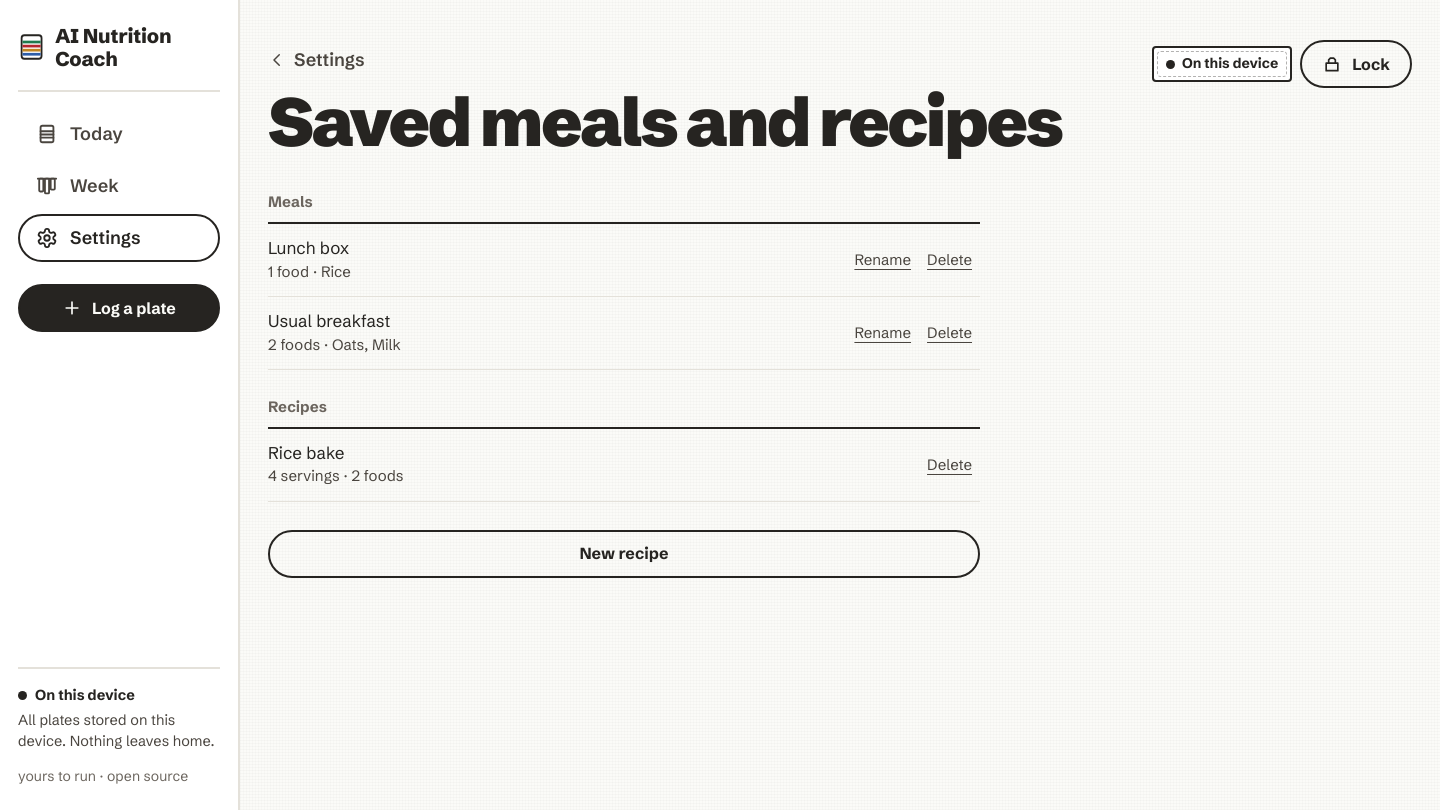
Scenario: SavedScreen › cancelling a rename changes nothing
Expected: the text "Usual breakfast" is shown, [268,310,390,331]
Click the button with aria-label "Rename Lunch box" at (883, 260), box [846,236,919,284]
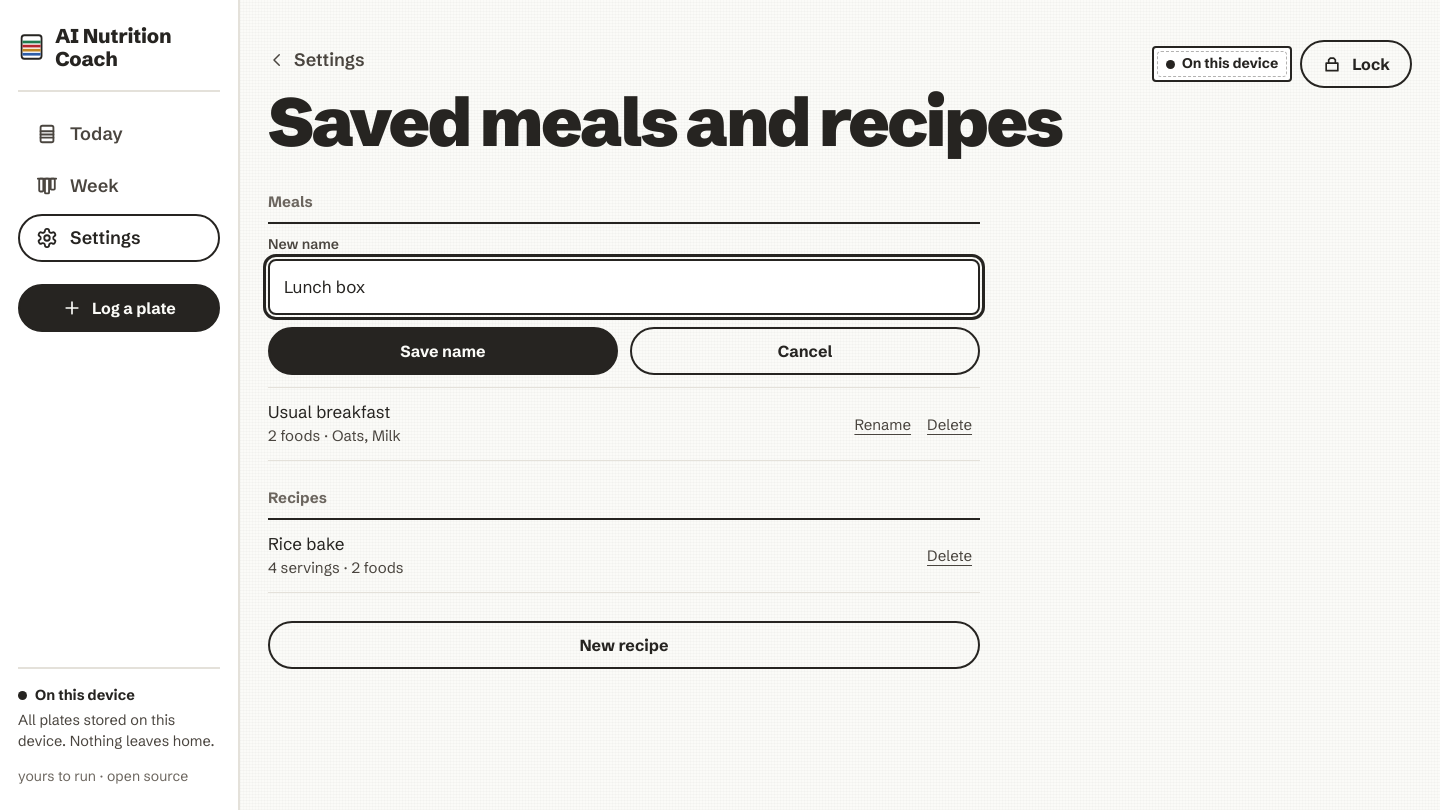
Type " x" into the field labelled "New name" at (624, 287), box [270,261,978,313]
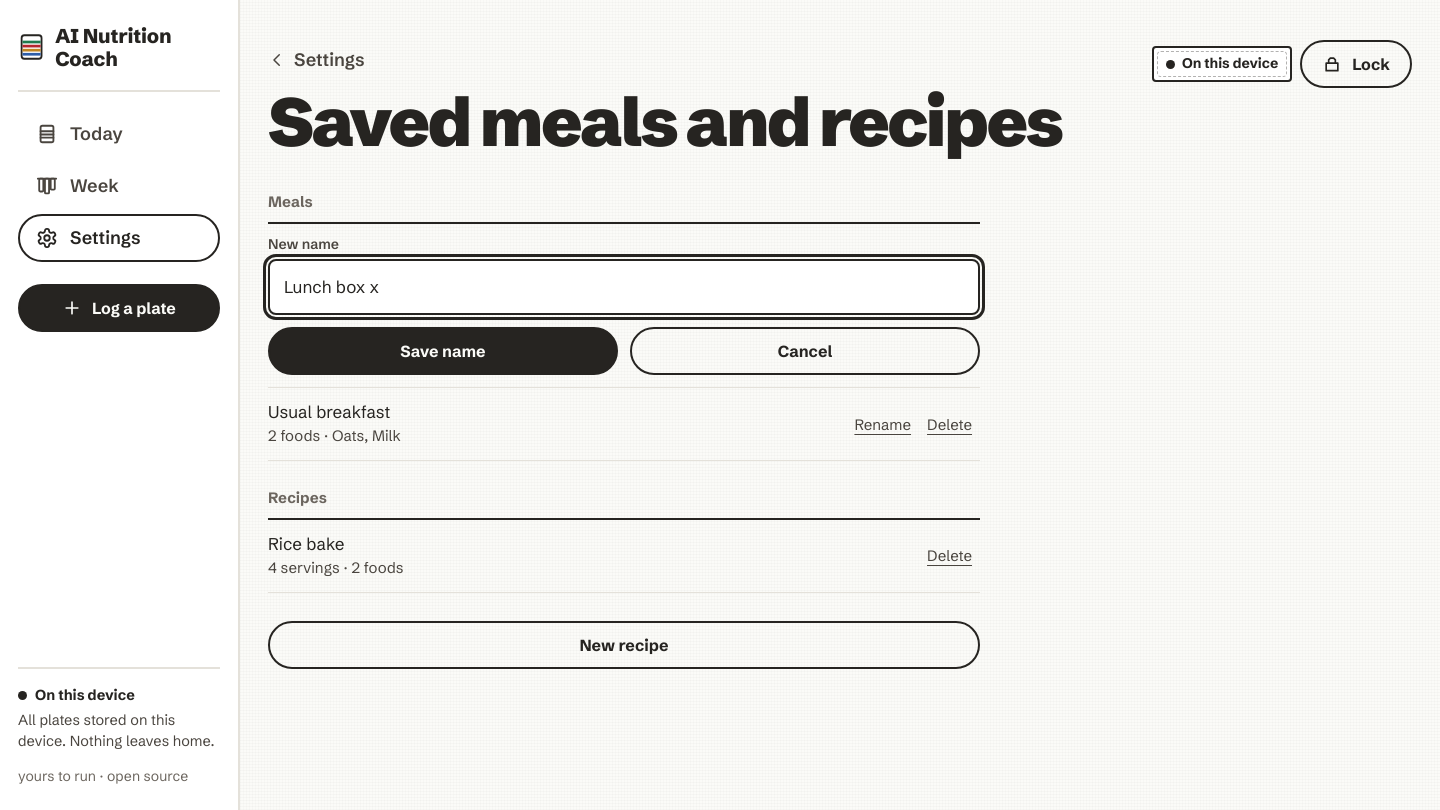
Click the button "Cancel" at (805, 351), box [630,327,980,375]
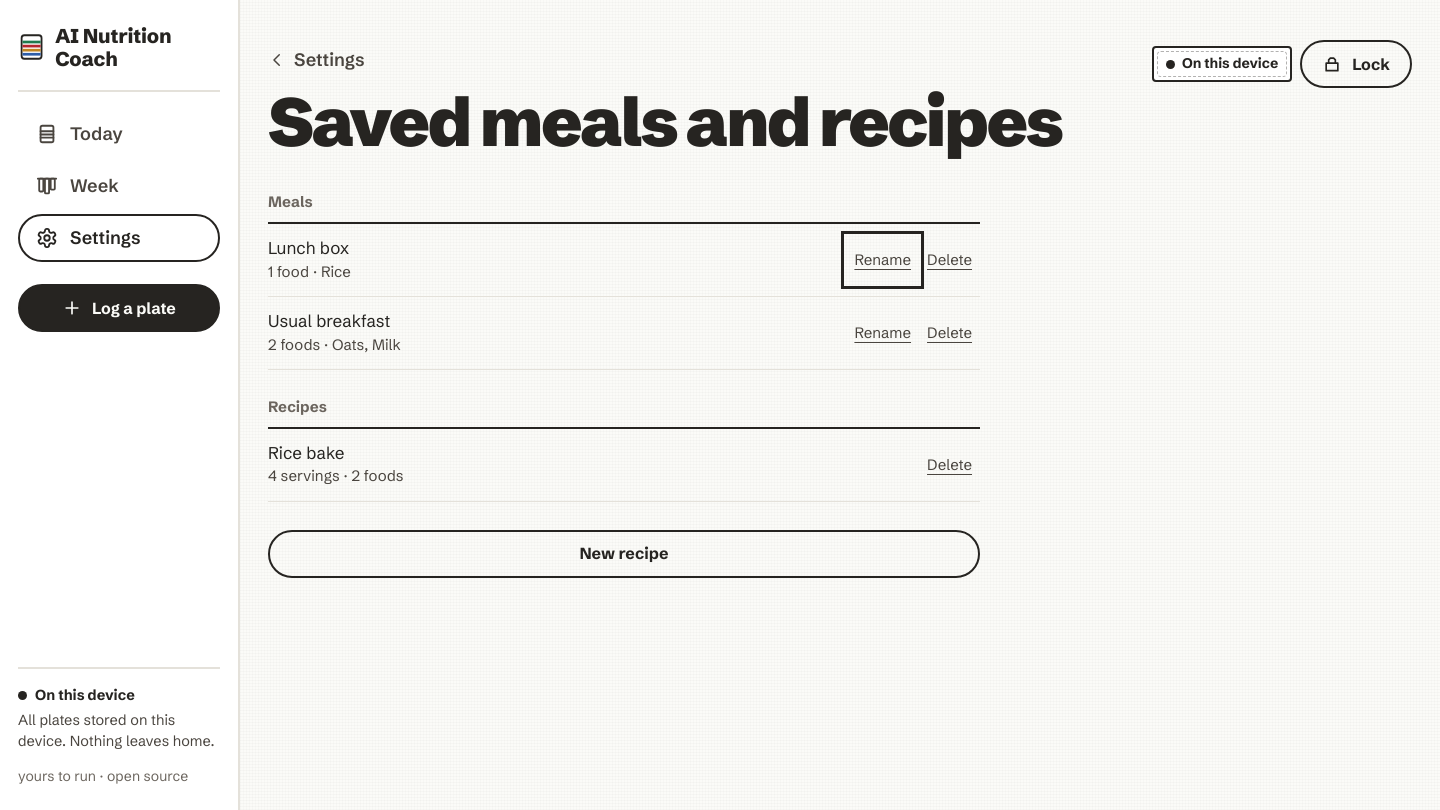
Result: the text "Lunch box" is shown at [268,237,349,258]
